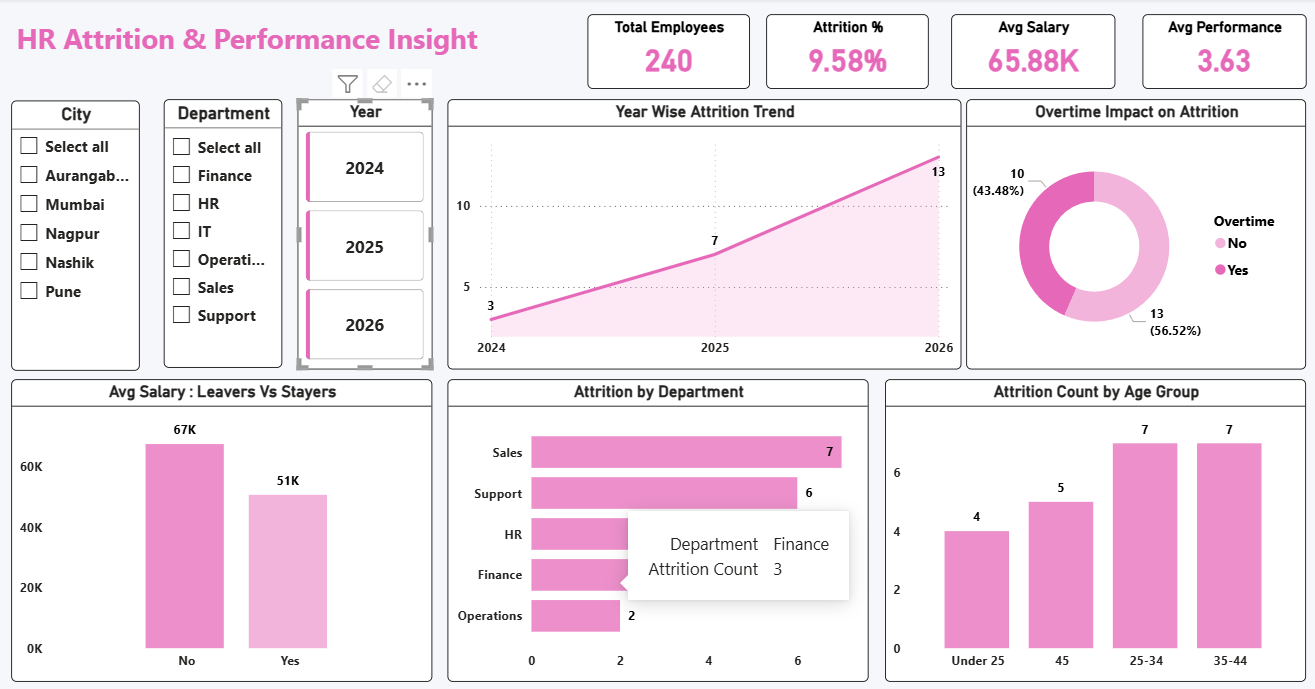

Layout of this report page (visuals, bound fields, positions):
{"tool":"powerbi","page":{"name":"HR overview","canvas":[1280,720],"ordinal":0},"visuals":[{"type":"card","title":"Total Employees","fields":{"Values":["HR_Analytics.Total Employees"]},"box":[571.9,15.7,156.8,72.4],"z":0},{"type":"card","title":"Attrition %","fields":{"Values":["HR_Analytics.Attrition %"]},"box":[744.4,15.7,156.8,72.4],"z":1000},{"type":"card","title":"Avg Salary","fields":{"Values":["HR_Analytics.Avg Salary"]},"box":[922.9,15.7,158,72.4],"z":2000},{"type":"card","title":"Avg Performance","fields":{"Values":["HR_Analytics.Avg Performance"]},"box":[1107.5,15.7,158,72.4],"z":3000},{"type":"clusteredBarChart","title":"Attrition by Department","fields":{"Category":["HR_Analytics.Department"],"Y":["HR_Analytics.Attrition Count"]},"box":[436.7,368,406.6,292],"z":4000},{"type":"clusteredColumnChart","fields":{"Y":["HR_Analytics.Attrition Count"],"Category":["HR_Analytics.Age Group"]},"box":[859,368,406.6,292],"z":5000},{"type":"donutChart","title":"Overtime Impact on Attrition","fields":{"Category":["HR_Analytics.Overtime"],"Y":["HR_Analytics.Attrition Count"]},"box":[937.4,97.7,328.2,260.6],"z":6000},{"type":"clusteredColumnChart","title":"Avg Salary : Leavers Vs Stayers","fields":{"Category":["HR_Analytics.Attrition"],"Y":["HR_Analytics.Avg Salary"]},"box":[15.7,368,406.6,292],"z":7000},{"type":"lineChart","title":"Year Wise Attrition Trend","fields":{"Y":["HR_Analytics.Attrition Count"],"Category":["HR_Analytics.Year"]},"box":[436.7,97.7,495.8,260.6],"z":8000},{"type":"listSlicer","fields":{"Values":["HR_Analytics.City"]},"box":[15.7,98.9,124.3,260.6],"z":9000},{"type":"listSlicer","fields":{"Values":["HR_Analytics.Department"]},"box":[162.9,97.7,114.6,259.4],"z":10000},{"type":"advancedSlicerVisual","fields":{"Values":["HR_Analytics.Year"]},"box":[292,97.7,130.3,260.6],"z":11000},{"type":"textbox","box":[15.7,15.7,489.8,60.3],"z":12000}]}

Visuals, with their boxes in screenshot pixels (x1, y1, x2, y2):
"Total Employees" card: [570, 39, 718, 107]
"Attrition %" card: [733, 39, 880, 107]
"Avg Salary" card: [901, 39, 1050, 107]
"Avg Performance" card: [1075, 39, 1224, 107]
"Attrition by Department" clusteredBarChart: [443, 371, 826, 646]
clusteredColumnChart - HR_Analytics.Attrition Count x HR_Analytics.Age Group: [841, 371, 1224, 646]
"Overtime Impact on Attrition" donutChart: [915, 116, 1224, 362]
"Avg Salary : Leavers Vs Stayers" clusteredColumnChart: [46, 371, 429, 646]
"Year Wise Attrition Trend" lineChart: [443, 116, 910, 362]
listSlicer - HR_Analytics.City: [46, 117, 163, 363]
listSlicer - HR_Analytics.Department: [184, 116, 292, 361]
advancedSlicerVisual - HR_Analytics.Year: [306, 116, 429, 362]
textbox: [46, 39, 507, 96]
